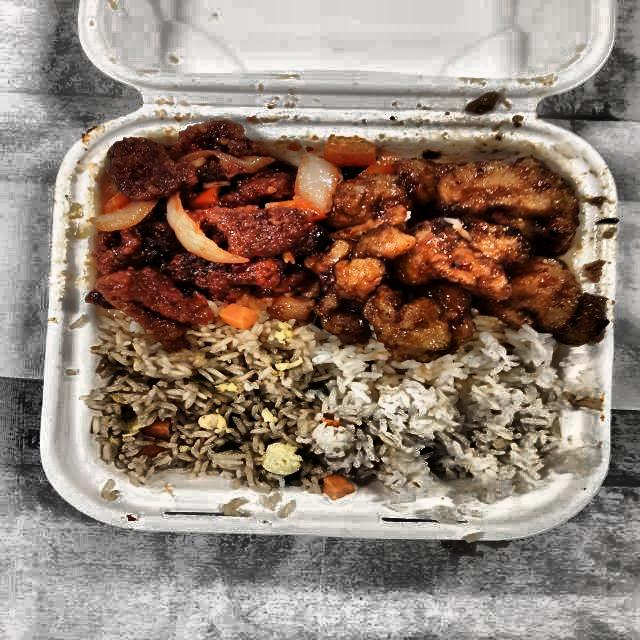Food: (290, 138, 606, 362), (71, 119, 314, 328), (92, 324, 326, 492), (316, 342, 558, 499)
